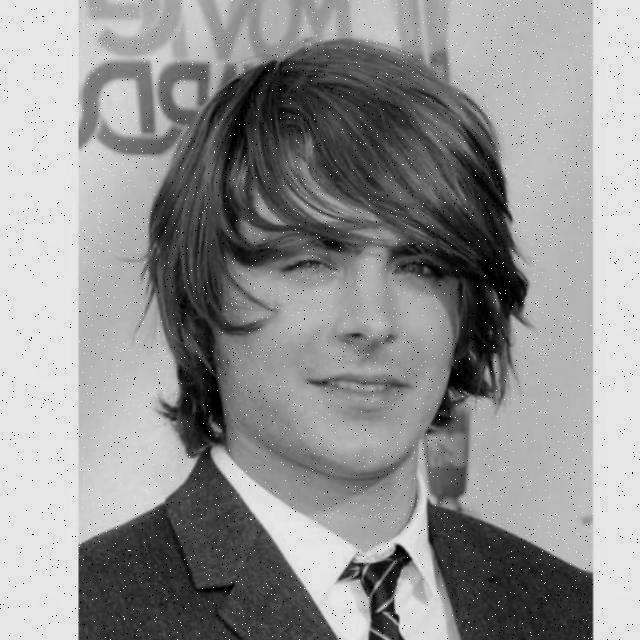real: (217, 168, 457, 480)
